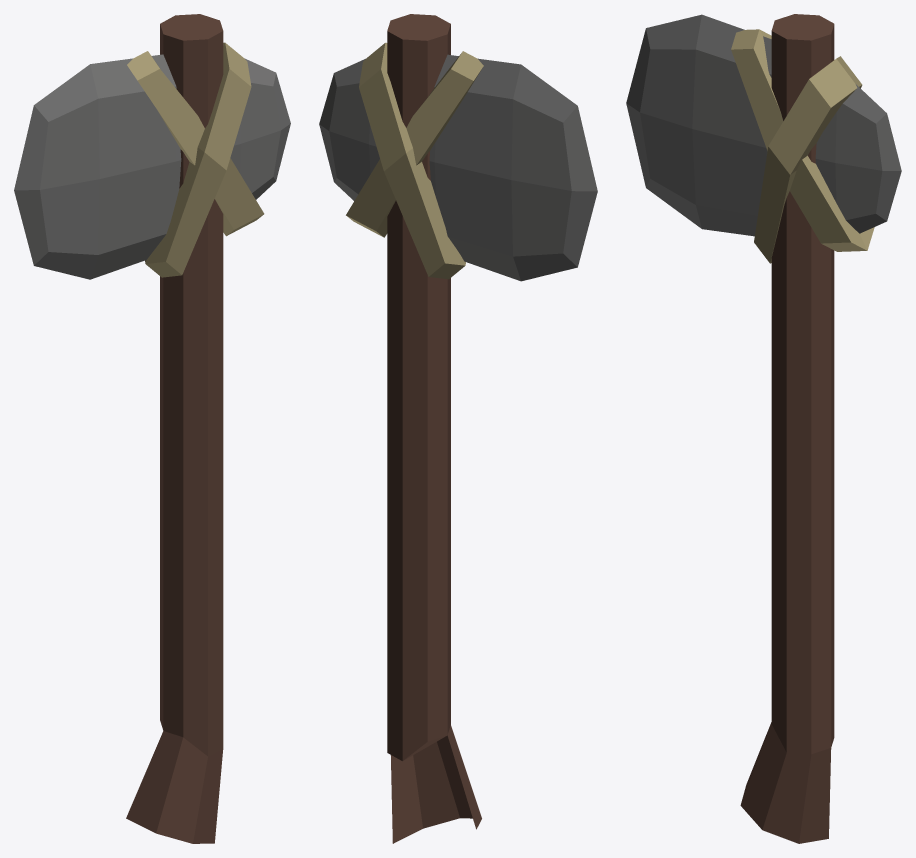
The model's file is stoneaxe.fbx.
3 views of the same model, side by side, from view 1: azimuth 30°, elevation 25°; view 2: azimuth 150°, elevation 25°; view 3: azimuth 330°, elevation 25° (orthographic).
Parts seen in each view (by area): view 1: 실린더, 큐브, 큐브.001; view 2: 실린더, 큐브, 큐브.001; view 3: 실린더, 큐브, 큐브.001.
Part boxes in pixels (x1,y1,x2,y2): 실린더: [126, 14, 223, 843]; 큐브: [14, 54, 290, 279]; 큐브.001: [127, 42, 264, 277]; 실린더: [387, 14, 481, 843]; 큐브: [319, 54, 597, 281]; 큐브.001: [346, 42, 483, 279]; 실린더: [740, 14, 834, 843]; 큐브: [626, 14, 901, 236]; 큐브.001: [731, 29, 874, 263].
Bounding box in the file's own units: 230 × 647 × 68.75.
